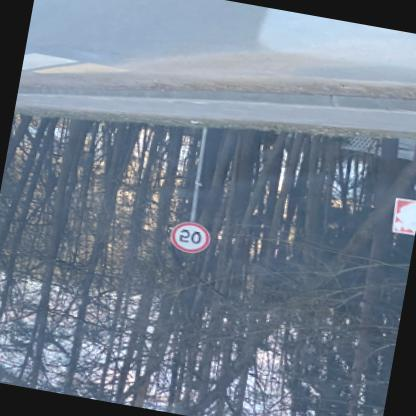speedlimit: (167, 221, 209, 256)
